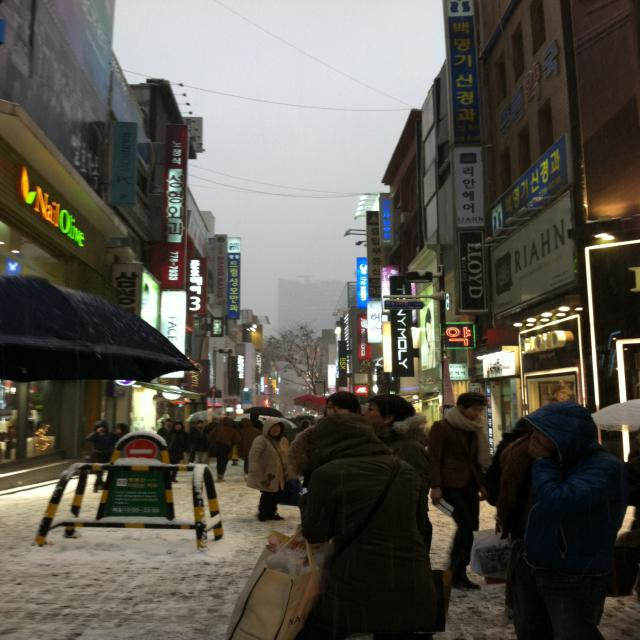body: (282, 410, 441, 640), (510, 399, 630, 640), (424, 389, 498, 594), (360, 392, 434, 554), (245, 417, 291, 522), (484, 416, 534, 508), (205, 416, 242, 484), (312, 390, 369, 427), (235, 418, 262, 482), (84, 421, 117, 464), (165, 421, 187, 484), (544, 381, 575, 401), (156, 417, 177, 443), (196, 419, 207, 464), (204, 417, 222, 438), (188, 412, 223, 422), (249, 412, 265, 432), (112, 422, 129, 438), (288, 416, 316, 424), (299, 419, 311, 432)
